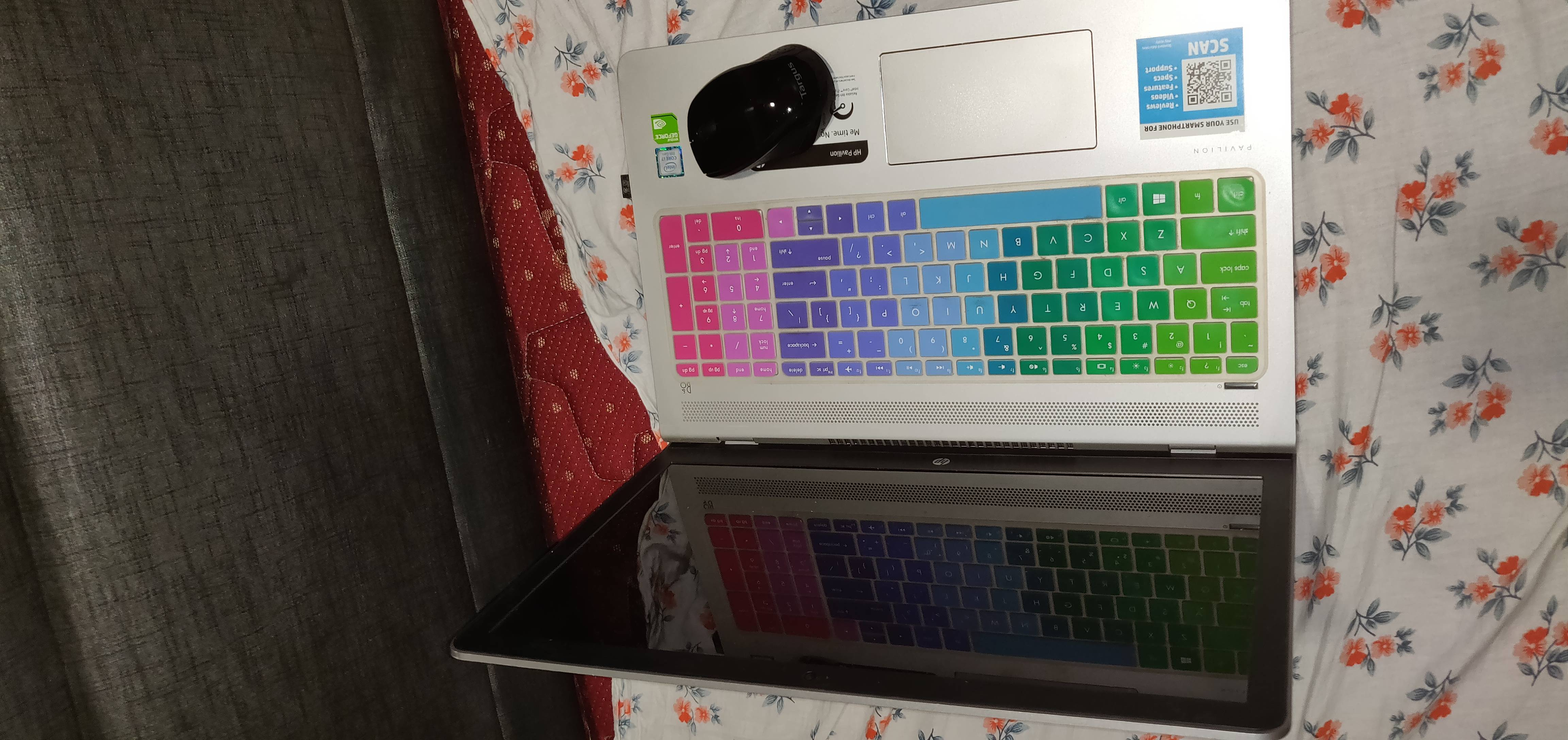Electronics: (410, 0, 1337, 734), (674, 31, 846, 193)
